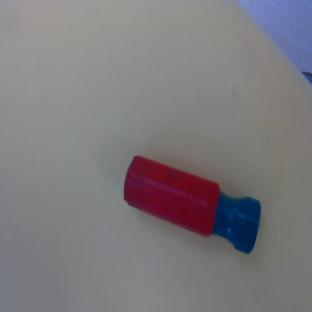part_2_good: (115, 148, 270, 257)
